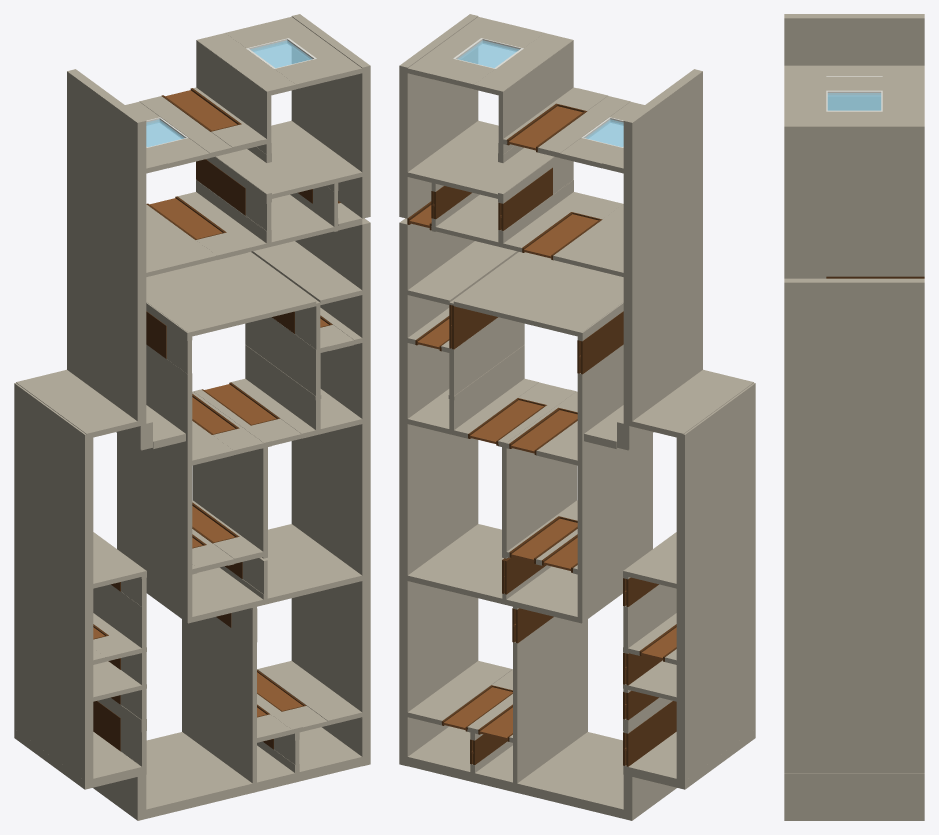
The model's file is tt_layout.obj.
The picture shows the model from 3 angles, left to right: view 1: azimuth 30°, elevation 25°; view 2: azimuth 150°, elevation 25°; view 3: azimuth 270°, elevation 25°; orthographic projection.
Bounding box in the file's own units: 280 × 655 × 120.
